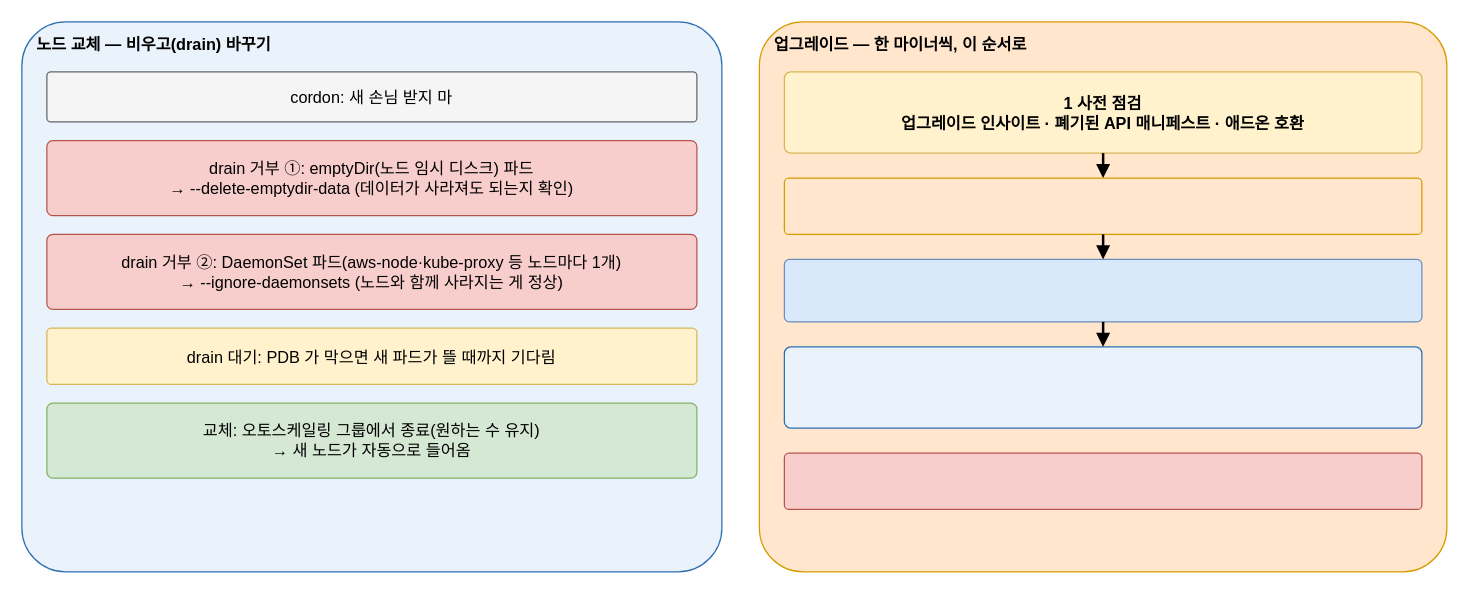
Some shapes in this 1469 by 594 pixel diagram are drawn without their labels. Here are the shapes that lost their labels. From the top down, the centre of each, then its label:
At (1102,205): "2 컨트롤 플레인 1.36 → 1.37 (약 10분)".
At (1102,290): "3 애드온: vpc-cni · kube-proxy · coredns · ebs-csi … 기본 버전으로".
At (1102,387): "4 노드: 관리형 노드 그룹 1대씩 교체(PDB 지킴) Karpenter 노드는 AMI 가 바뀌어 드리프트로 자동 교체".
At (1102,480): "되돌릴 수 없다 — 컨트롤 플레인은 다운그레이드 불가".
